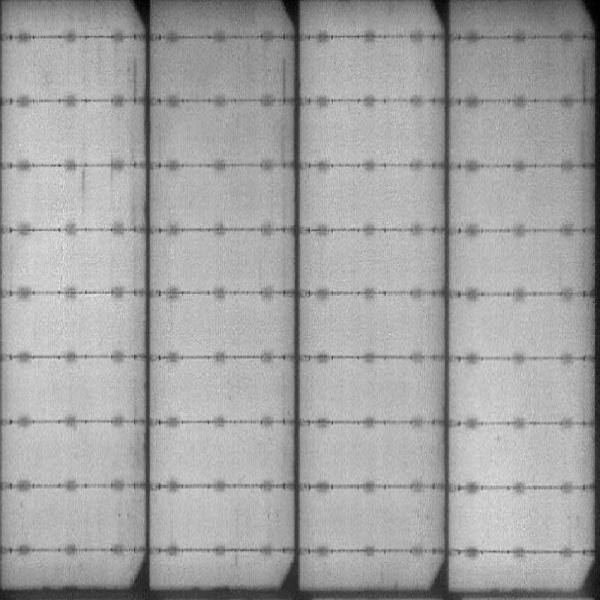scratch: (129, 53, 141, 108), (277, 59, 289, 109)
